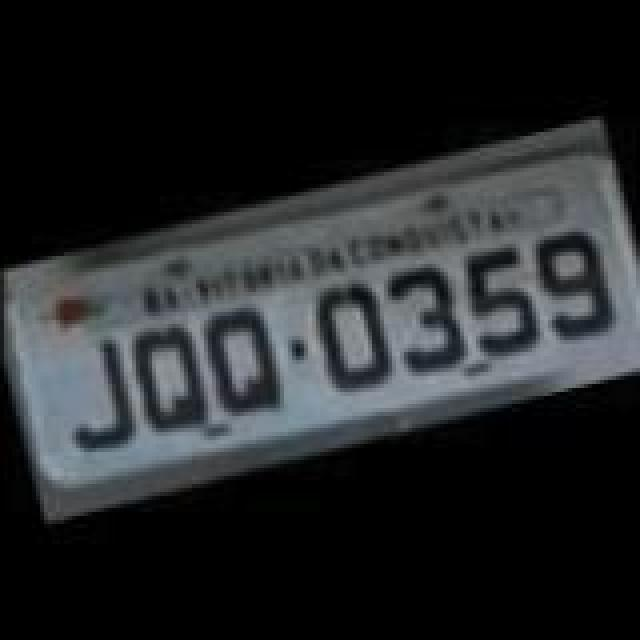3: (372, 254, 464, 378)
5: (452, 238, 544, 358)
9: (526, 214, 614, 346)
J: (46, 334, 138, 458)
O: (304, 276, 388, 392)
Q: (124, 318, 220, 438), (198, 298, 286, 414)
